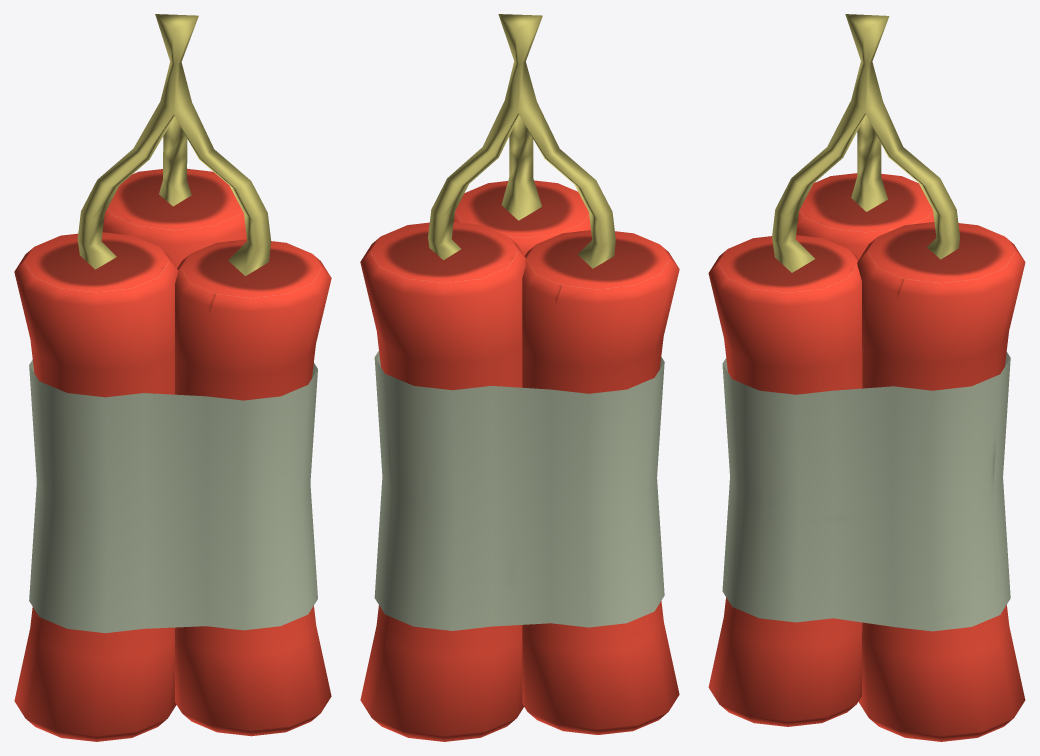
File: Dynamite.glb
The picture shows the model from 3 angles, left to right: view 1: azimuth 30°, elevation 25°; view 2: azimuth 150°, elevation 25°; view 3: azimuth 270°, elevation 25°; orthographic projection.
Parts seen in each view (by area): view 1: Cylinder; view 2: Cylinder; view 3: Cylinder.
Boxes of the visible parts, x1,y1,x2,y2 form: Cylinder: [14, 14, 331, 741]; Cylinder: [360, 14, 679, 741]; Cylinder: [708, 14, 1025, 741].
Bounding box in the file's own units: 3.52 × 8.73 × 3.73.
1 material, 1 textured.
